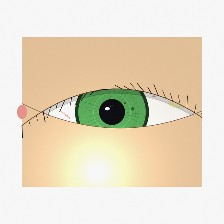pinguecula_lesion: (158, 87, 199, 120)
